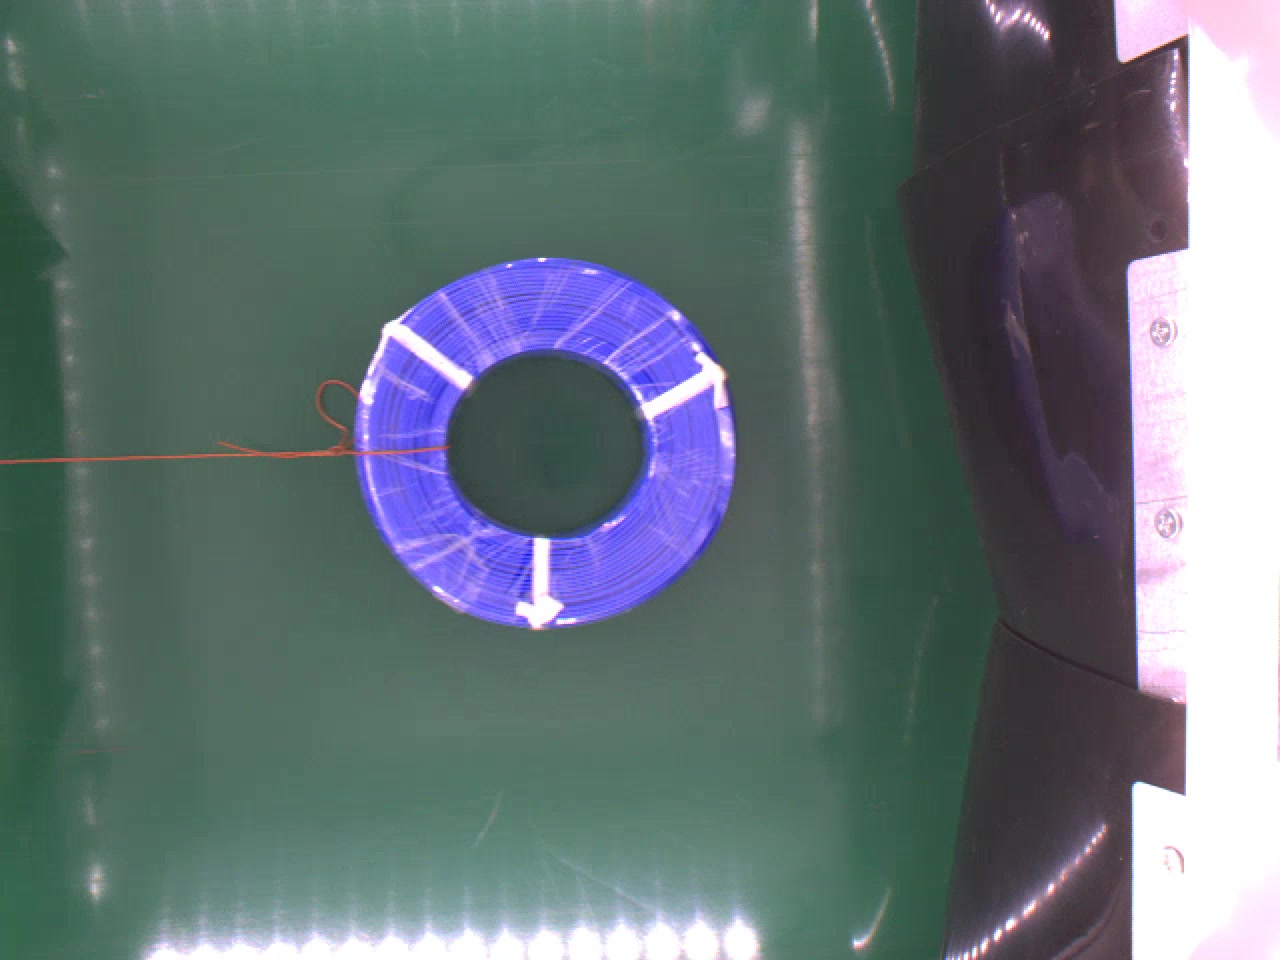blue: (354, 251, 735, 619)
